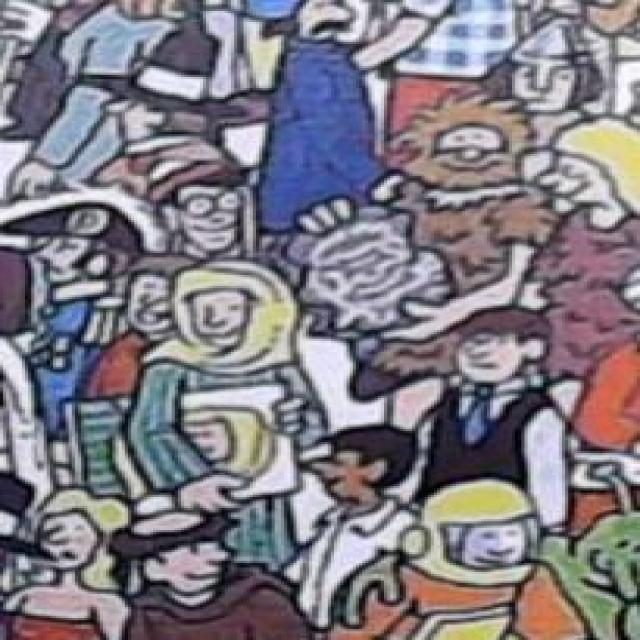waldo: (125, 152, 250, 253)
